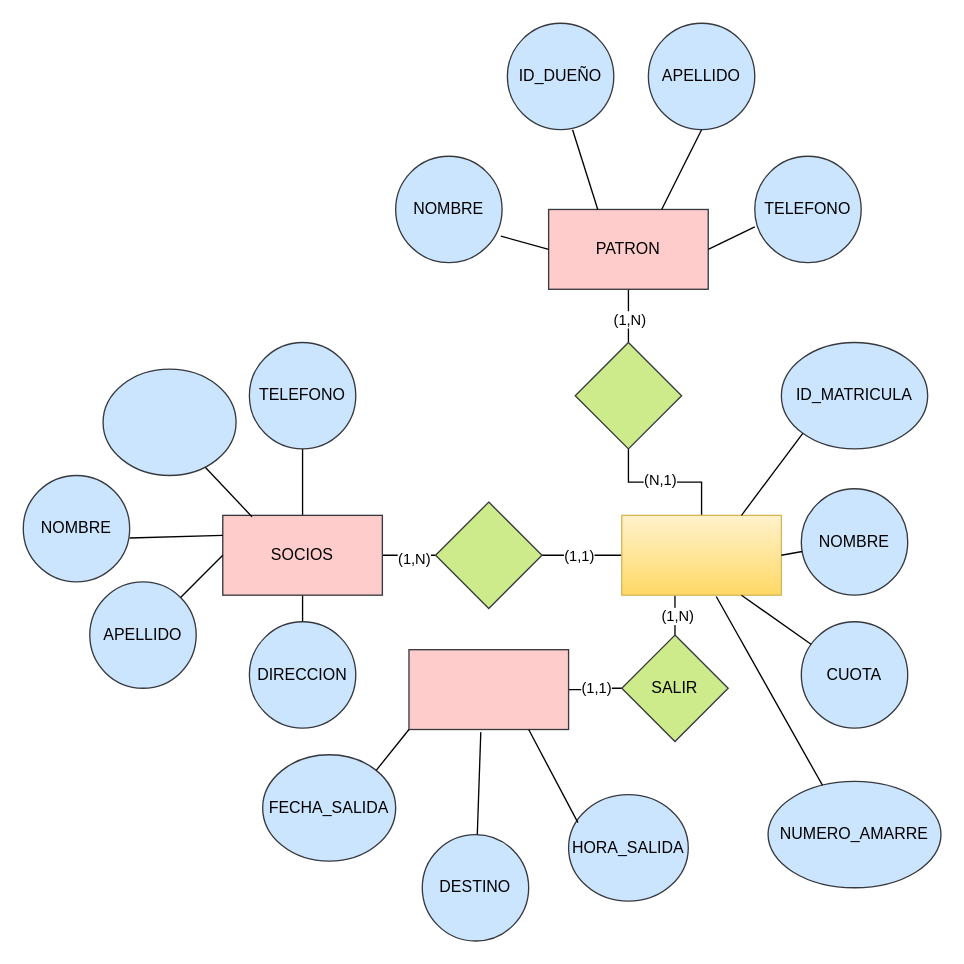
Image size: 964x964. Some labels were removed from this diagram. Each missing label, with the centre of its shape:
ASOCIAR: point 488,554
BARCOS: point 700,554
ID_PERSONA: point 169,421
SALIDAS: point 488,689
TENER: point 628,395
